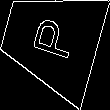P_W: (24, 15, 77, 65)
